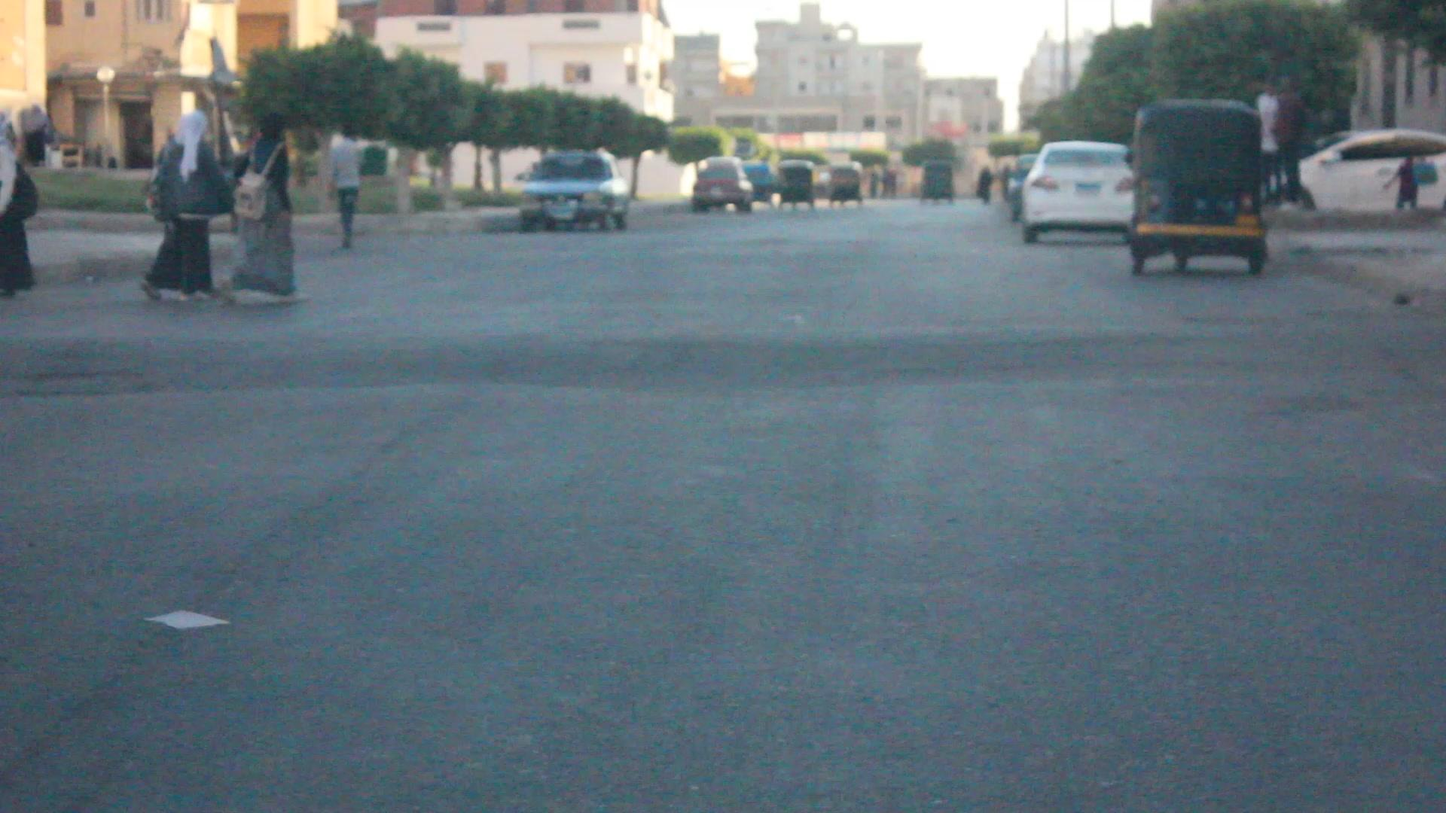Bump: (0, 324, 1446, 416)
